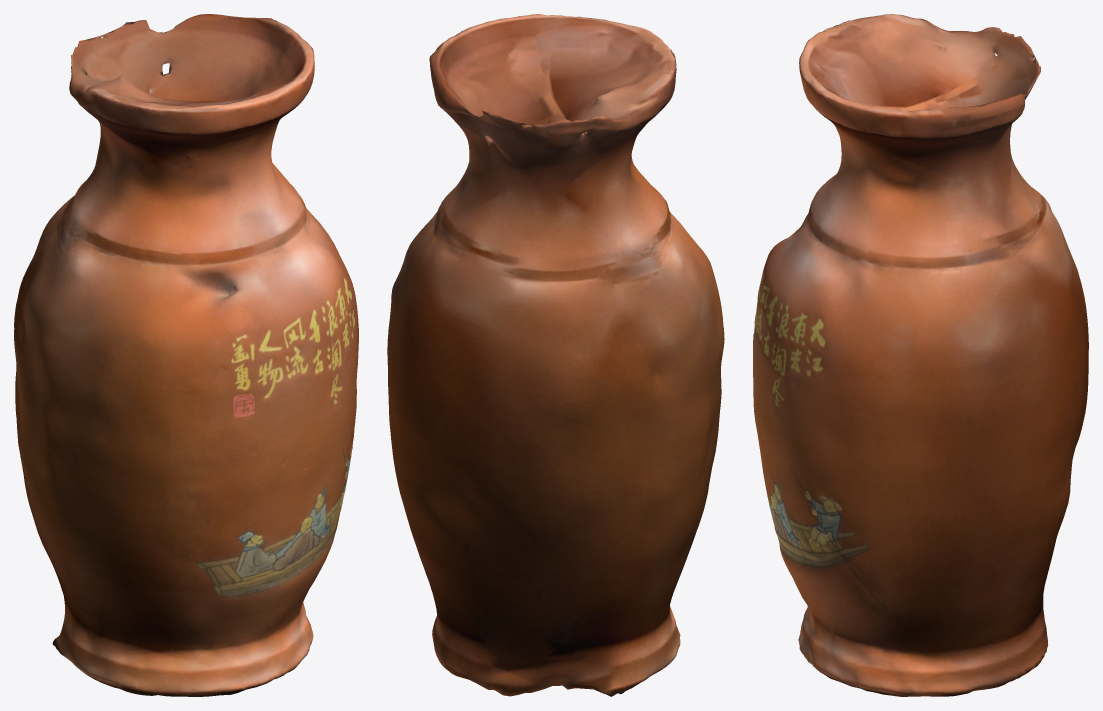
The model's file is biggerone.glb.
3 renders of one model, left to right at view 1: azimuth 30°, elevation 25°; view 2: azimuth 150°, elevation 25°; view 3: azimuth 270°, elevation 25°, orthographic.
Bounding box in the file's own units: 0.1848 × 0.3594 × 0.183.
1 material, 1 textured.
